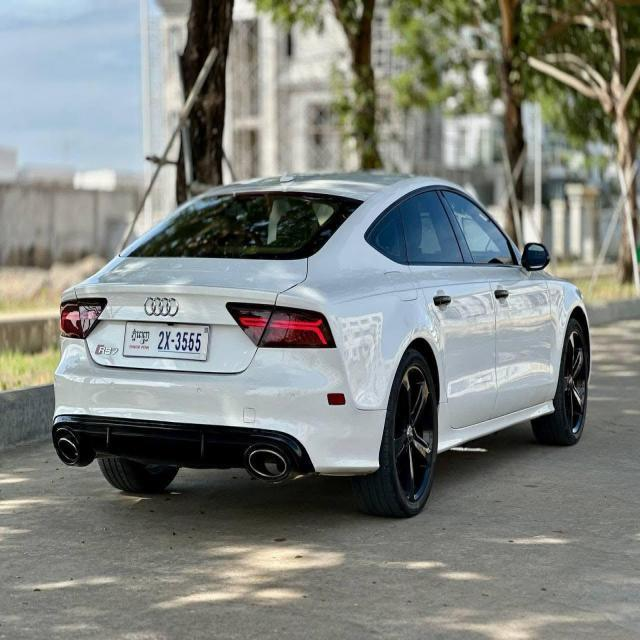Phnom_Penh: (131, 327, 152, 344)
